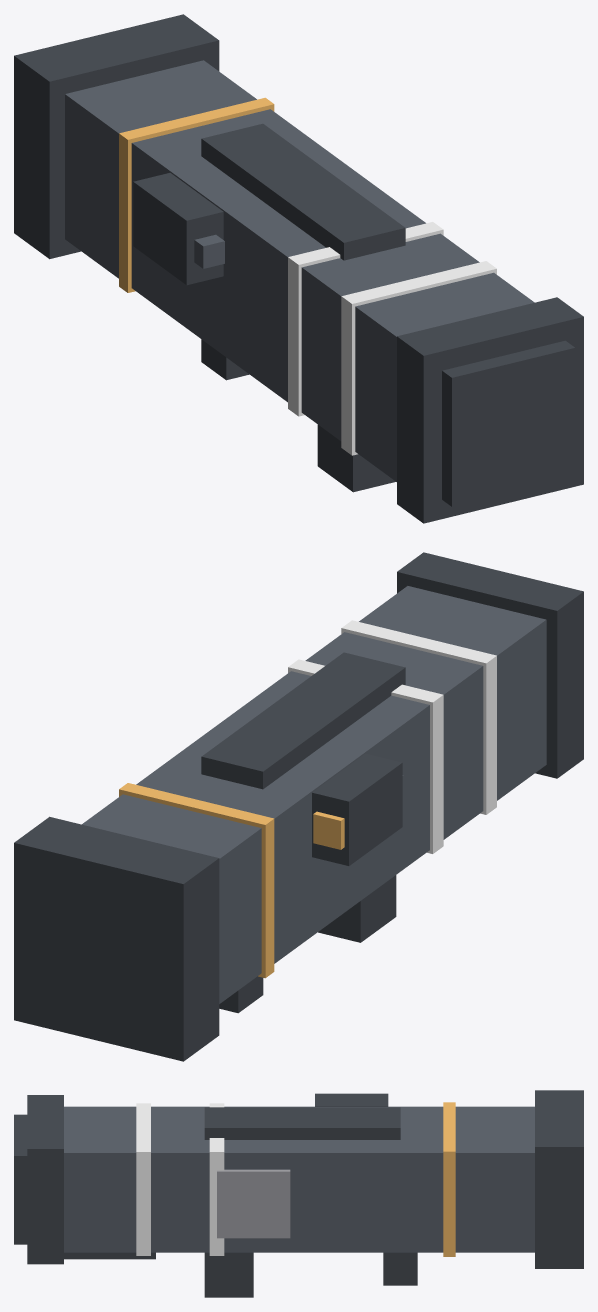
The model's file is ROCKET.gltf.
The picture shows the model from 3 angles, top to bottom: view 1: azimuth 30°, elevation 25°; view 2: azimuth 150°, elevation 25°; view 3: azimuth 270°, elevation 25°; orthographic projection. The views are drawn at different scales.
Parts seen in each view (by area): view 1: ROCKET; view 2: ROCKET; view 3: ROCKET.
Boxes of the visible parts, x1,y1,x2,y2 form: ROCKET: (14, 14, 583, 523); ROCKET: (14, 552, 583, 1061); ROCKET: (14, 1090, 583, 1297).
Size of the model in its own units: 0.125 by 0.156 by 0.466.
